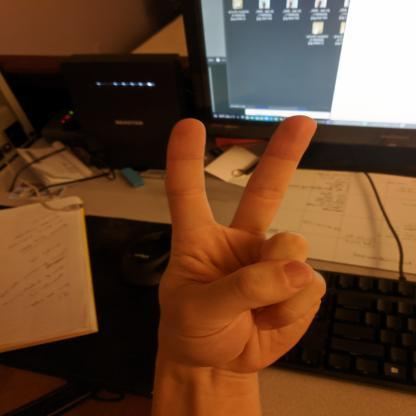V: (149, 110, 332, 377)
